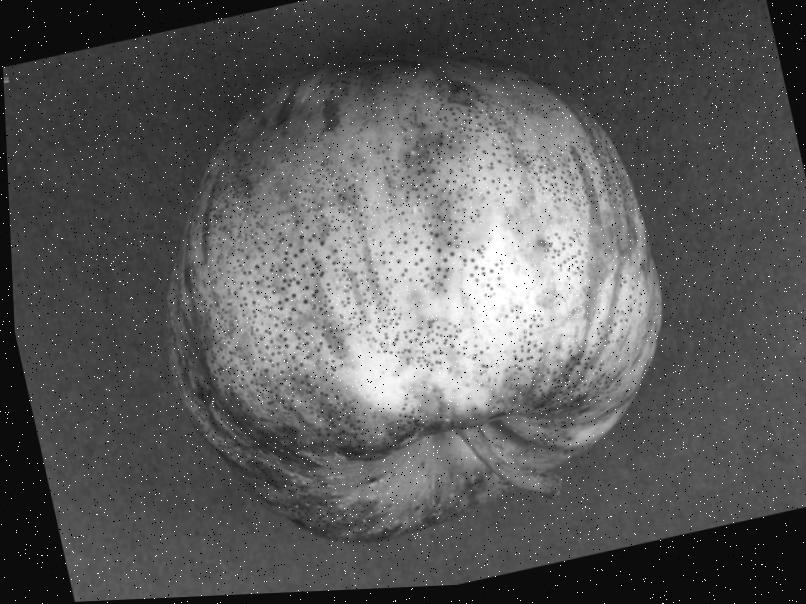BLOTCH: (96, 0, 747, 600)
